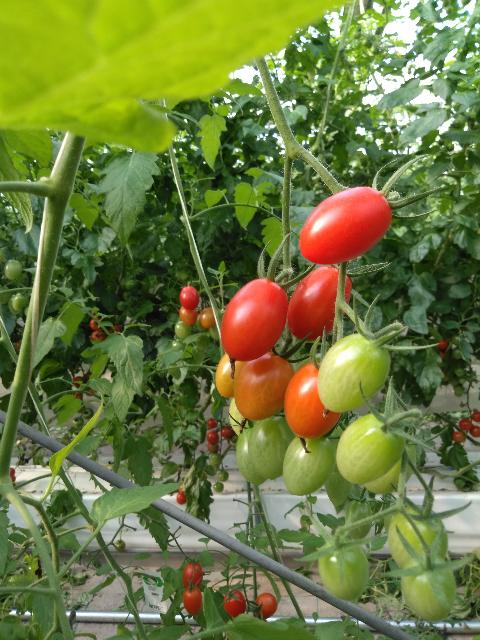l_fully_ripened: (298, 186, 392, 265), (220, 279, 289, 361), (287, 266, 351, 343), (253, 592, 278, 619), (223, 589, 246, 618), (183, 585, 202, 616), (182, 562, 203, 588), (179, 286, 199, 310)
l_green: (317, 333, 391, 414), (336, 413, 406, 485), (400, 552, 457, 623), (387, 505, 448, 568), (362, 429, 416, 495), (281, 433, 336, 496), (318, 536, 369, 601), (247, 415, 297, 480), (235, 427, 267, 485), (323, 464, 355, 506), (346, 499, 373, 543), (228, 398, 258, 435), (4, 259, 23, 280), (174, 321, 191, 341), (12, 293, 28, 312)
l_half_ripened: (283, 363, 342, 439), (235, 353, 294, 422), (216, 352, 249, 398), (179, 306, 197, 326), (199, 307, 216, 328)
